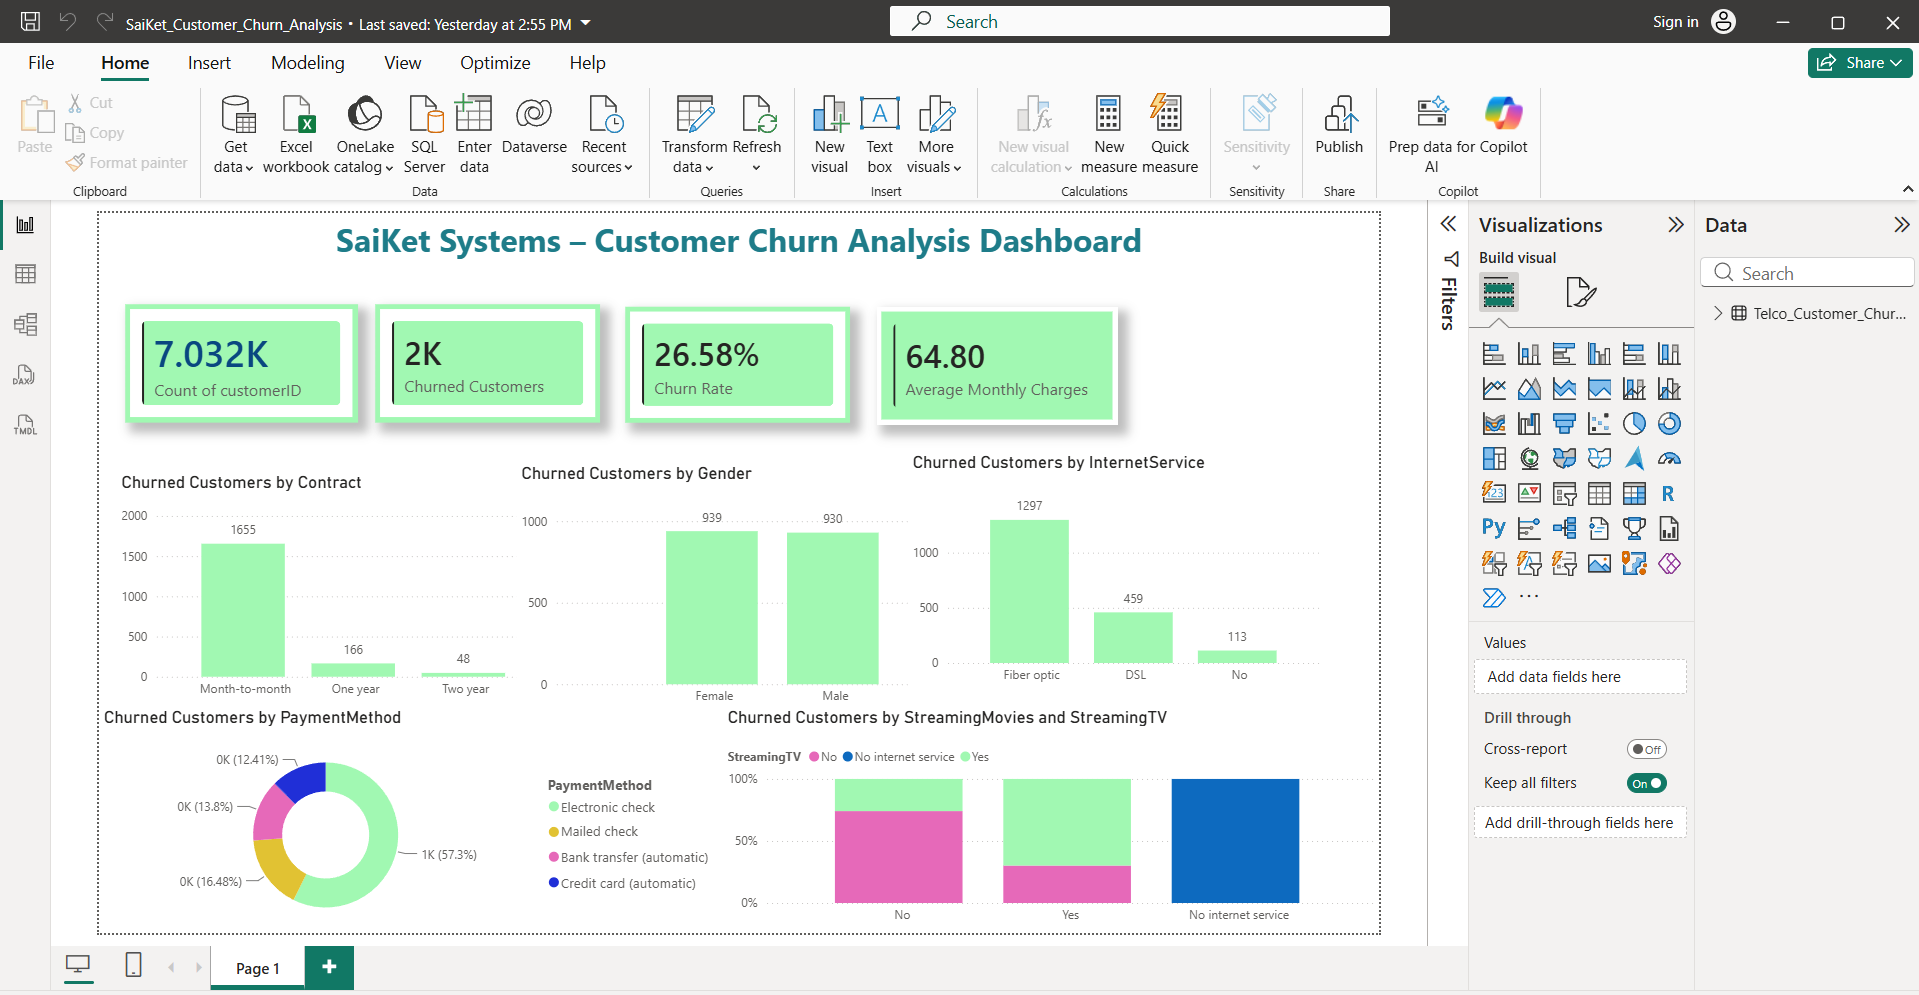

Layout of this report page (visuals, bound fields, positions):
{"tool":"powerbi","page":{"name":"Page 1","canvas":[1280,720],"ordinal":0},"visuals":[{"type":"cardVisual","title":"Total Customers","fields":{"Data":["CountNonNull(Telco_Customer_Churn_Dataset  (2).customerID)"]},"box":[26.2,91.2,232.5,118.8],"z":0},{"type":"textbox","box":[0,0,1280,53.8],"z":1},{"type":"textbox","box":[0,482.5,241,173],"z":2},{"type":"cardVisual","fields":{"Data":["Telco_Customer_Churn_Dataset.Churned Customers"]},"box":[276.2,91.2,225,118.8],"z":3},{"type":"cardVisual","fields":{"Data":["Telco_Customer_Churn_Dataset.Churn Rate"]},"box":[526.2,93.8,225,116.2],"z":4},{"type":"clusteredColumnChart","fields":{"Category":["Telco_Customer_Churn_Dataset.Contract"],"Y":["Telco_Customer_Churn_Dataset.Churned Customers"]},"box":[17.5,258.8,442.5,235],"z":5},{"type":"cardVisual","fields":{"Data":["Telco_Customer_Churn_Dataset.Average Monthly Charges"]},"box":[777.5,93.8,241.2,118.8],"z":6},{"type":"clusteredColumnChart","title":"Churned Customers by Gender","fields":{"Category":["Telco_Customer_Churn_Dataset.gender"],"Y":["Telco_Customer_Churn_Dataset.Churned Customers"]},"box":[417.5,250,481.2,251.2],"z":7},{"type":"clusteredColumnChart","fields":{"Y":["Telco_Customer_Churn_Dataset.Churned Customers"],"Category":["Telco_Customer_Churn_Dataset.InternetService"]},"box":[808.8,238.8,420,241.2],"z":8},{"type":"donutChart","fields":{"Category":["Telco_Customer_Churn_Dataset.PaymentMethod"],"Y":["Telco_Customer_Churn_Dataset.Churned Customers"]},"box":[0,493.8,623.8,226.2],"z":9},{"type":"hundredPercentStackedColumnChart","fields":{"Category":["Telco_Customer_Churn_Dataset.StreamingMovies"],"Y":["Telco_Customer_Churn_Dataset.Churned Customers"],"Series":["Telco_Customer_Churn_Dataset.StreamingTV"]},"box":[623.8,493.8,656.2,226.2],"z":11}]}

Visuals, with their boxes on the page's 1280x720 design canvas (x1, y1, x2, y2). These are canvas units, not pixel positions in the 1919x995 screenshot, which may show the page scaled, cropped or inside an application window:
"Total Customers" cardVisual: {"x1": 26, "y1": 91, "x2": 259, "y2": 210}
textbox: {"x1": 0, "y1": 0, "x2": 1280, "y2": 54}
textbox: {"x1": 0, "y1": 482, "x2": 241, "y2": 656}
cardVisual - Telco_Customer_Churn_Dataset.Churned Customers: {"x1": 276, "y1": 91, "x2": 501, "y2": 210}
cardVisual - Telco_Customer_Churn_Dataset.Churn Rate: {"x1": 526, "y1": 94, "x2": 751, "y2": 210}
clusteredColumnChart - Telco_Customer_Churn_Dataset.Contract x Telco_Customer_Churn_Dataset.Churned Customers: {"x1": 18, "y1": 259, "x2": 460, "y2": 494}
cardVisual - Telco_Customer_Churn_Dataset.Average Monthly Charges: {"x1": 778, "y1": 94, "x2": 1019, "y2": 213}
"Churned Customers by Gender" clusteredColumnChart: {"x1": 418, "y1": 250, "x2": 899, "y2": 501}
clusteredColumnChart - Telco_Customer_Churn_Dataset.Churned Customers x Telco_Customer_Churn_Dataset.InternetService: {"x1": 809, "y1": 239, "x2": 1229, "y2": 480}
donutChart - Telco_Customer_Churn_Dataset.PaymentMethod x Telco_Customer_Churn_Dataset.Churned Customers: {"x1": 0, "y1": 494, "x2": 624, "y2": 720}
hundredPercentStackedColumnChart - Telco_Customer_Churn_Dataset.StreamingMovies x Telco_Customer_Churn_Dataset.Churned Customers: {"x1": 624, "y1": 494, "x2": 1280, "y2": 720}
